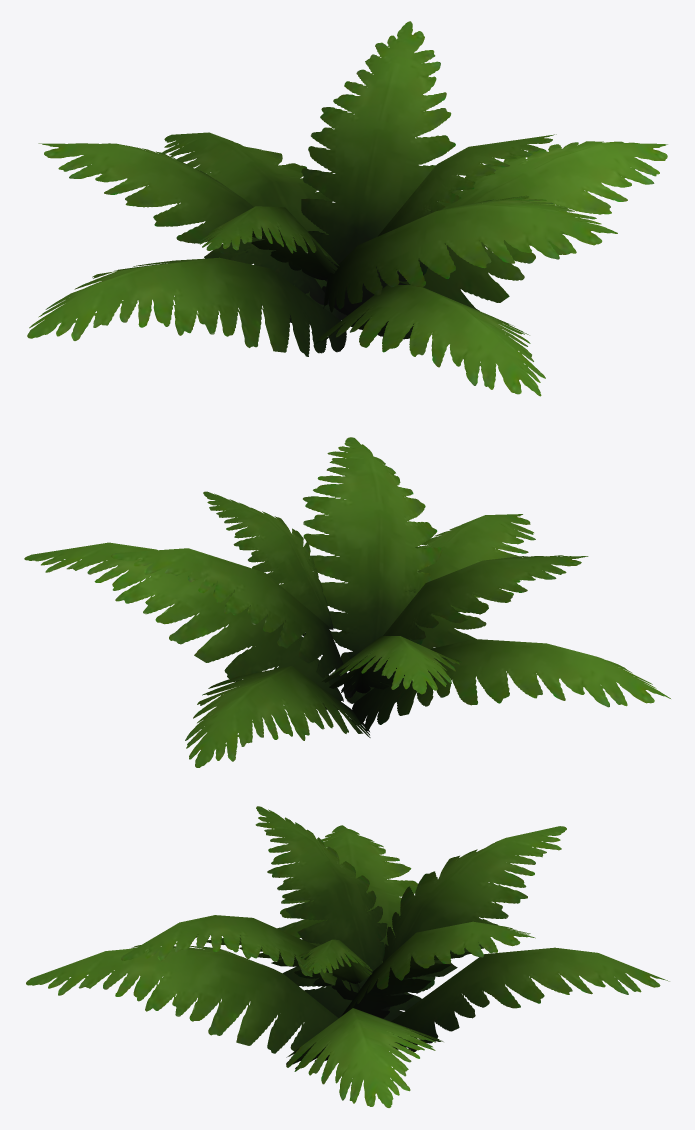
Rendered from Fern_1.glb.
3 renders of one model, top to bottom at view 1: azimuth 30°, elevation 25°; view 2: azimuth 150°, elevation 25°; view 3: azimuth 270°, elevation 25°, orthographic. The views are drawn at different scales.
Parts seen in each view (by area): view 1: Fern_1; view 2: Fern_1; view 3: Fern_1.
Boxes of the visible parts, bbox=[...] form: Fern_1: bbox=[27, 21, 667, 396]; Fern_1: bbox=[24, 437, 670, 767]; Fern_1: bbox=[26, 806, 669, 1107].
Bounding box in the file's own units: 2.83 × 0.8404 × 2.65.
Materials: 1 (1 with a texture image).
